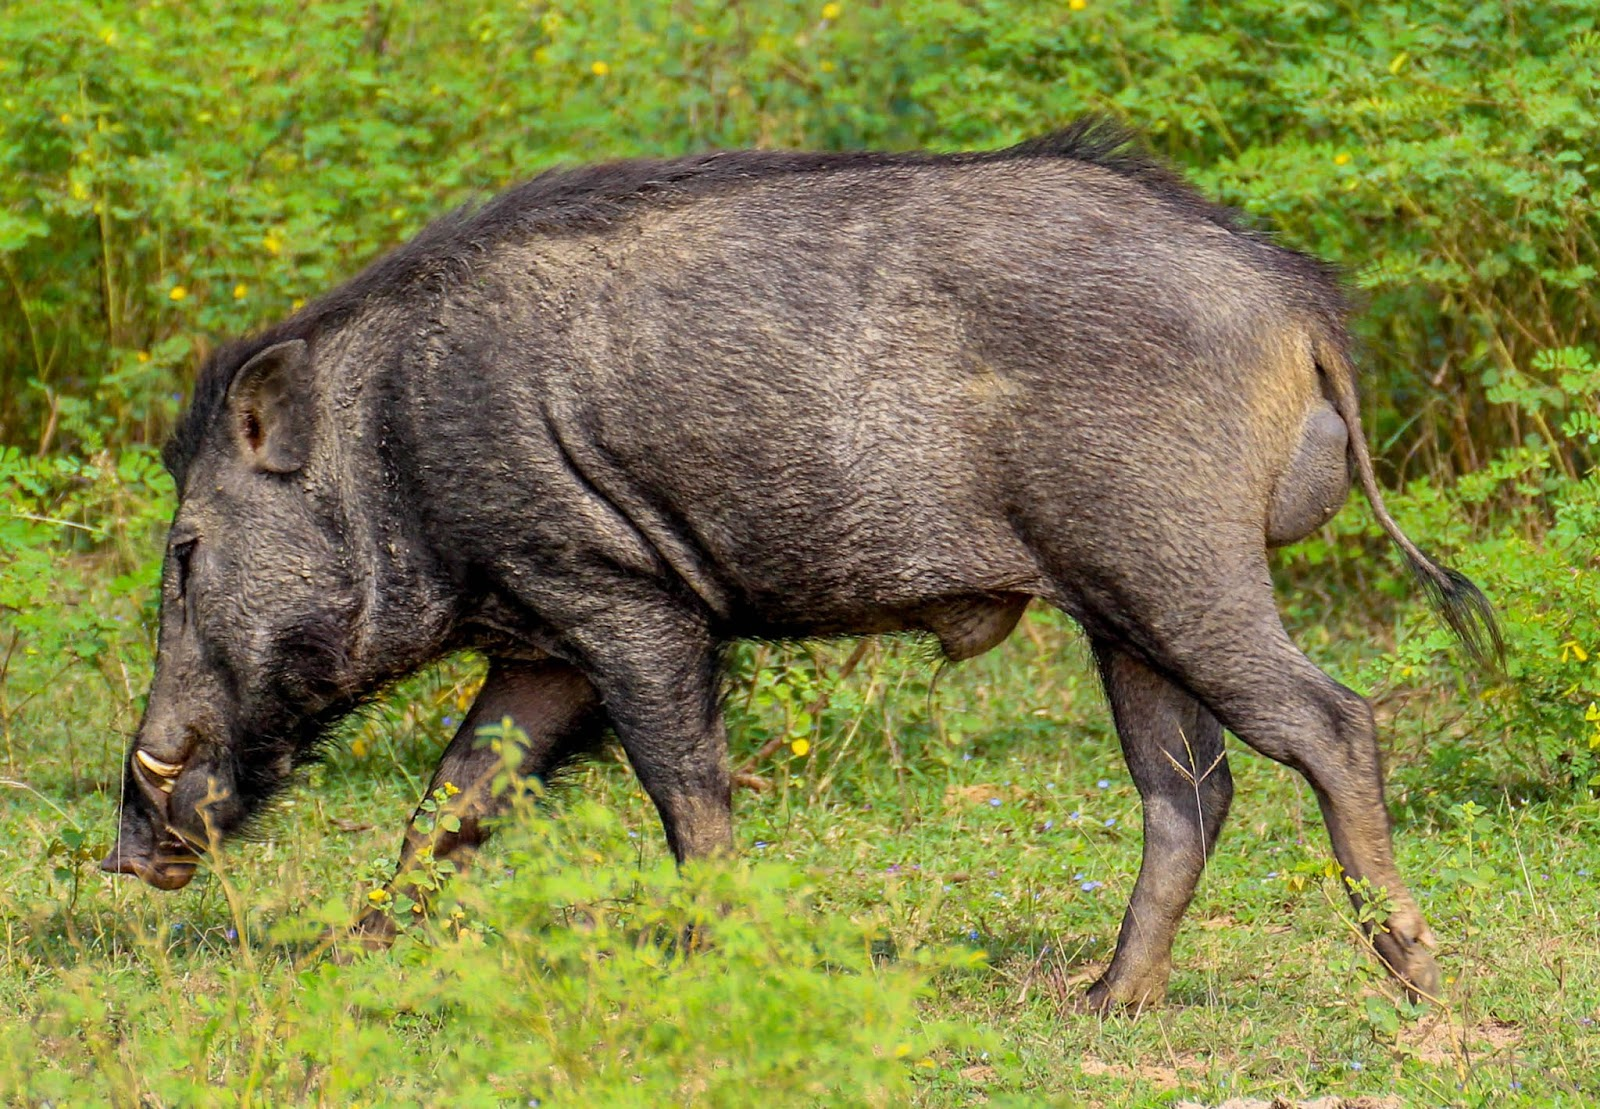wild boar: (96, 137, 1495, 1026)
